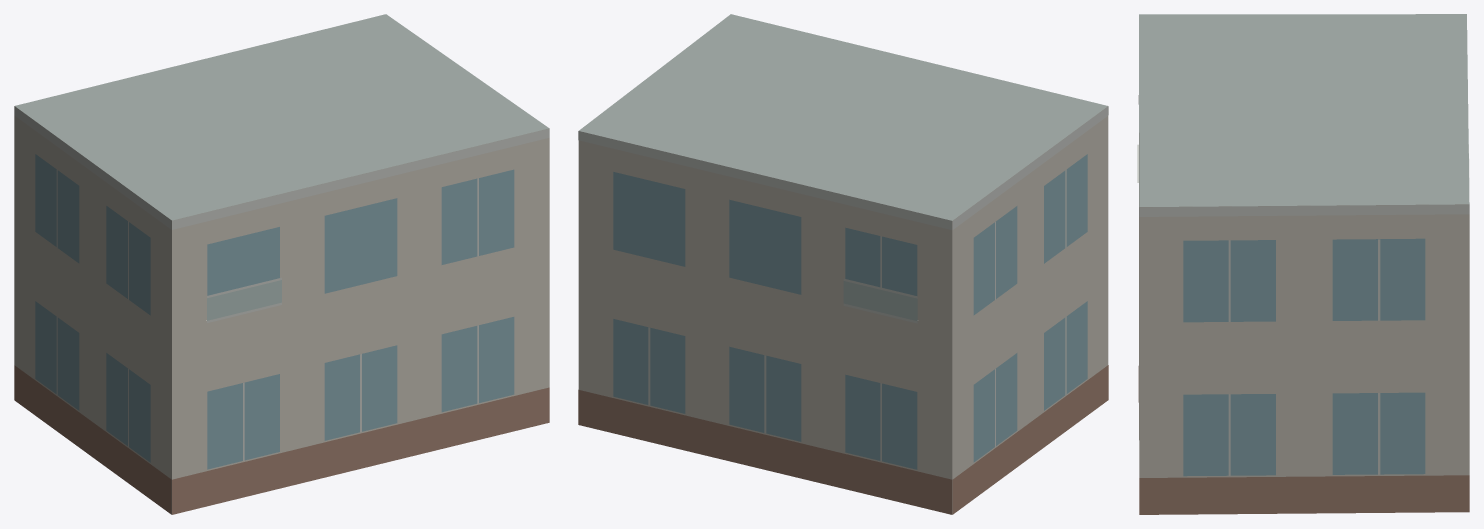
The model's file is survey-upis-32607246.glb.
The picture shows the model from 3 angles, left to right: view 1: azimuth 30°, elevation 25°; view 2: azimuth 150°, elevation 25°; view 3: azimuth 270°, elevation 25°; orthographic projection. The views are drawn at different scales.
Visible parts, largest first — view 1: survey-upis-32607246.tmp; view 2: survey-upis-32607246.tmp; view 3: survey-upis-32607246.tmp.
Part boxes in pixels (x1,y1,x2,y2): survey-upis-32607246.tmp: (14, 14, 549, 514); survey-upis-32607246.tmp: (578, 14, 1108, 514); survey-upis-32607246.tmp: (1137, 14, 1469, 514).
Size of the model in its own units: 10.24 by 7.6 by 7.44.
